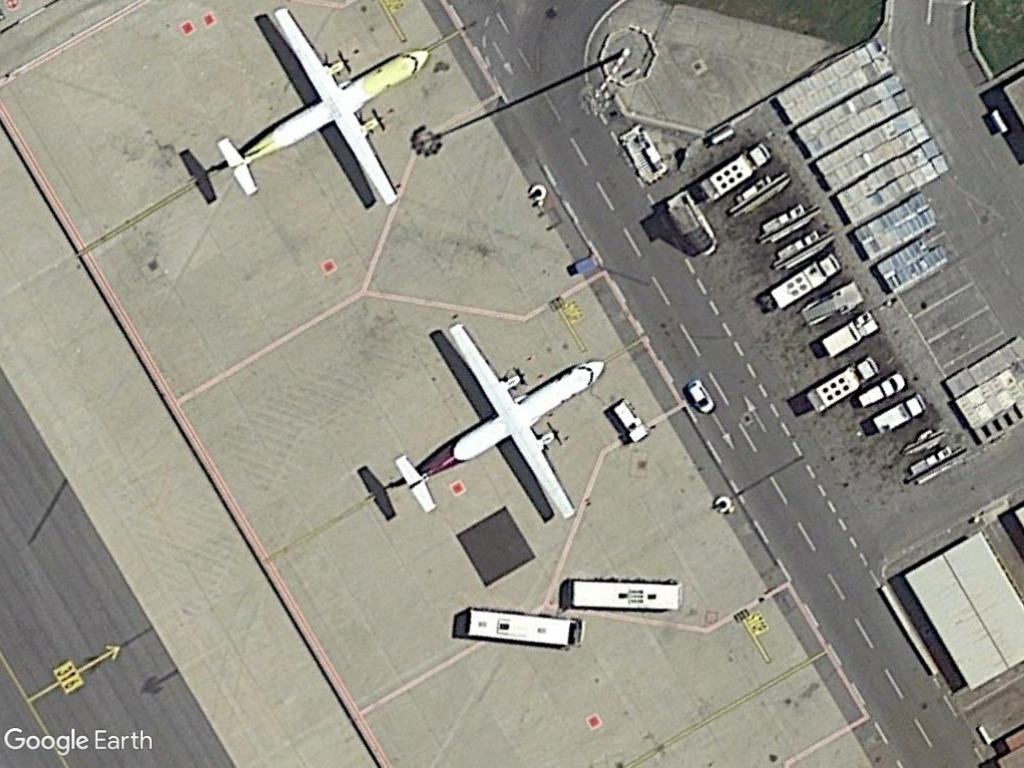bus: (461, 602, 585, 654), (561, 572, 687, 614)
car: (683, 376, 716, 416)
other: (609, 392, 652, 448)
propeller: (388, 312, 610, 531), (216, 7, 432, 213)
